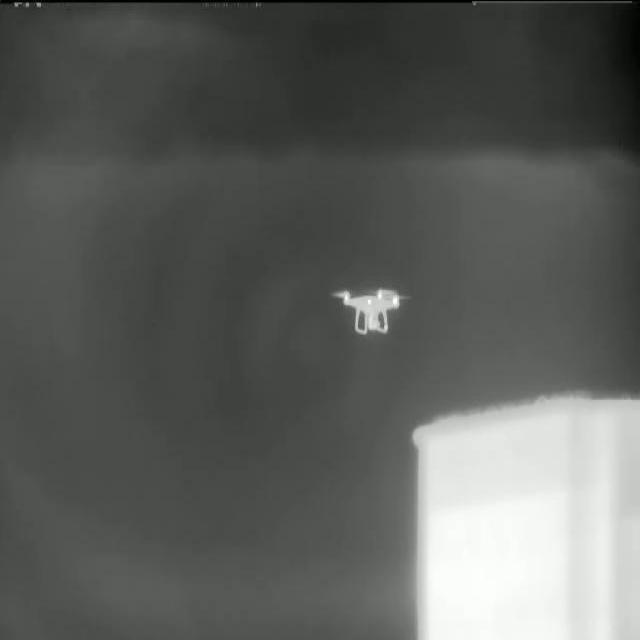DRONE: (324, 286, 414, 336)
